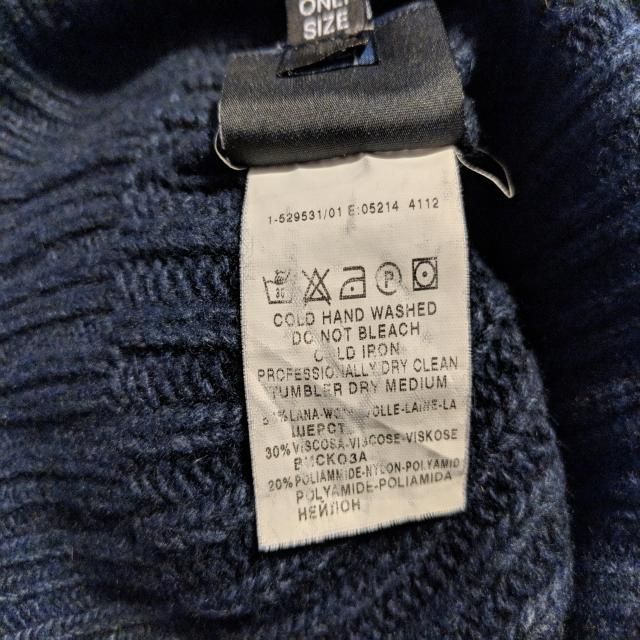DN_bleach: (301, 263, 336, 306)
dry_clean_any_solvent_except_trichloroethylene: (373, 259, 406, 298)
hand_wash: (259, 265, 298, 308)
iron_low: (338, 260, 372, 302)
tumble_dry_low: (409, 255, 442, 292)
